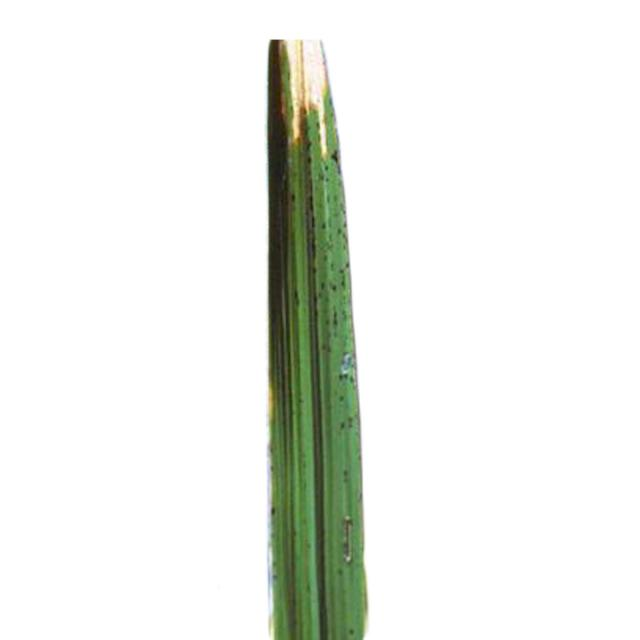Leaf scald: (183, 29, 468, 640)
